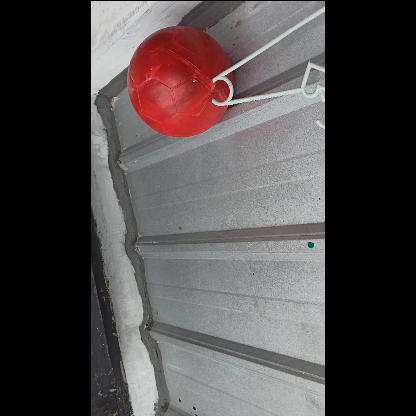red_ball: (124, 26, 234, 136)
